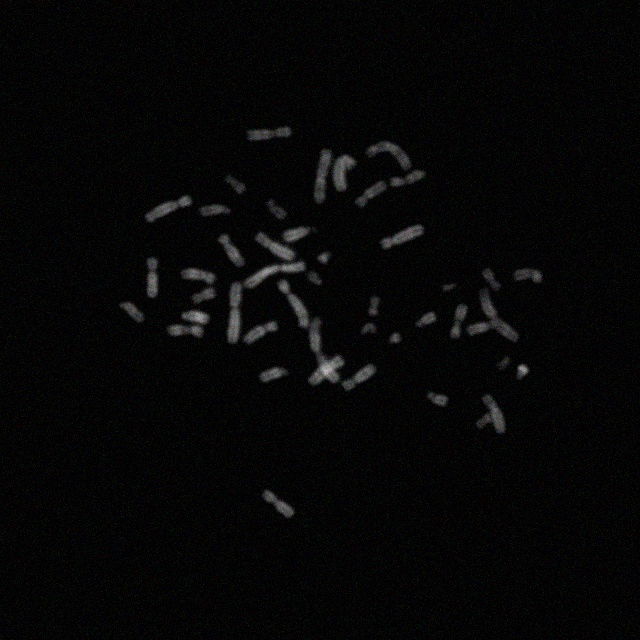chromosome: (478, 288, 518, 342), (309, 318, 339, 382), (244, 260, 304, 288), (278, 279, 308, 327), (366, 142, 412, 170), (145, 196, 191, 222), (253, 233, 294, 260), (308, 356, 344, 386), (382, 225, 424, 249), (262, 490, 294, 518), (354, 182, 388, 208), (483, 393, 505, 433), (332, 156, 356, 192), (314, 150, 330, 202), (218, 234, 244, 266), (245, 321, 278, 345), (344, 366, 376, 390), (228, 282, 240, 342), (246, 126, 292, 140), (390, 171, 428, 187), (450, 304, 466, 338), (180, 270, 216, 284), (120, 302, 144, 322), (168, 324, 202, 338), (514, 268, 542, 284), (260, 368, 290, 382), (147, 258, 157, 298), (483, 267, 501, 289), (468, 318, 489, 336), (284, 228, 310, 242), (268, 200, 286, 220), (225, 176, 245, 194), (200, 205, 230, 217), (416, 311, 436, 329), (181, 312, 209, 324), (192, 288, 215, 302), (427, 392, 448, 406), (496, 355, 512, 371), (476, 413, 492, 429), (367, 296, 379, 316), (516, 363, 528, 382), (308, 270, 322, 286), (317, 251, 331, 265), (361, 324, 377, 336), (442, 282, 456, 292), (391, 332, 402, 344)
